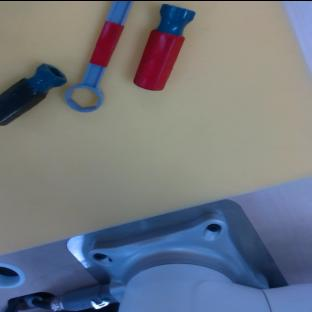part_2_bad: (0, 57, 70, 127)
